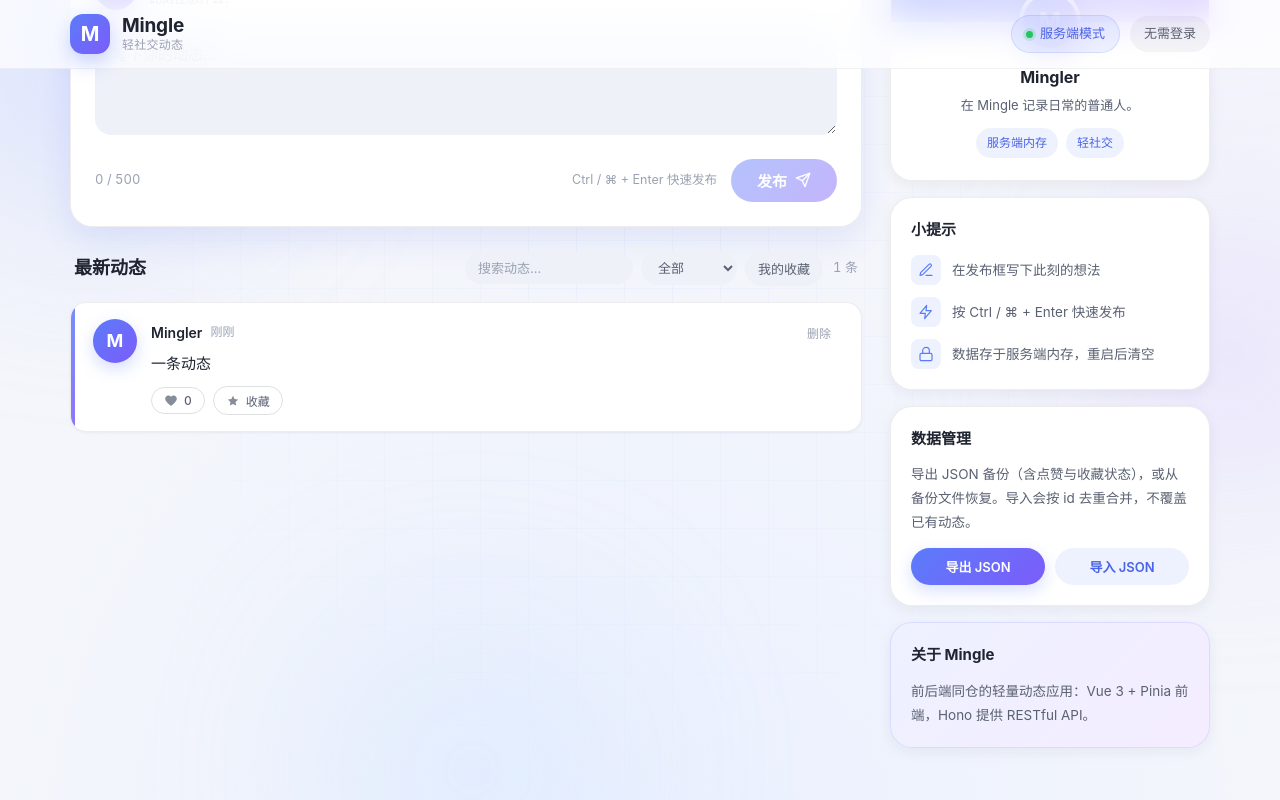
Test: App › 点赞成功后按钮进入激活态并显示最新计数
(page scrolled)
What coordinates should you click on to do the following:
click the button "0"
I would click on:
 (178, 401)
Its box is [151, 387, 205, 414].
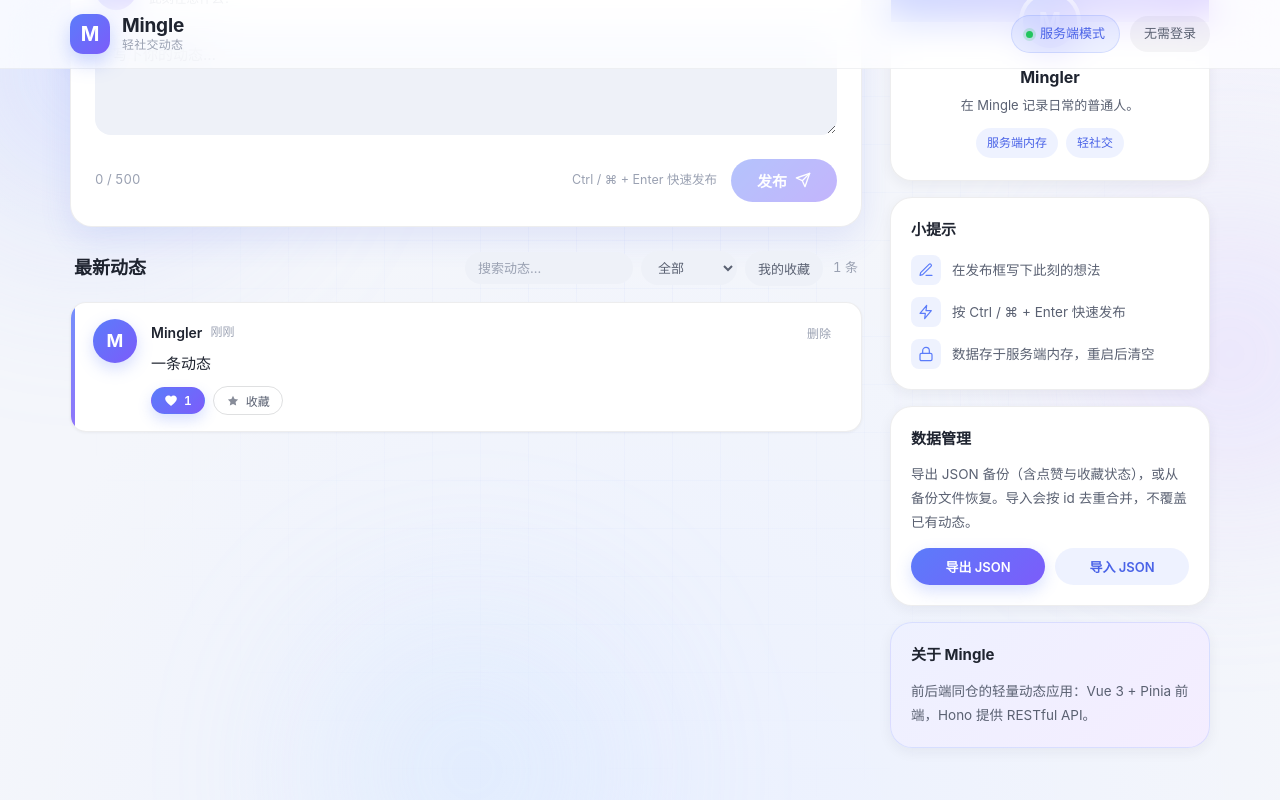
Expected: the button "1" is shown, [151, 387, 205, 414]
